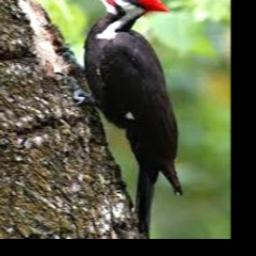Woodpecker: (62, 0, 182, 238)
